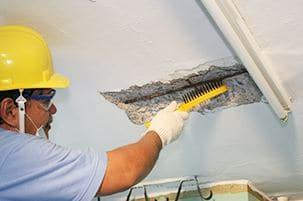spalling: (98, 64, 263, 126)
